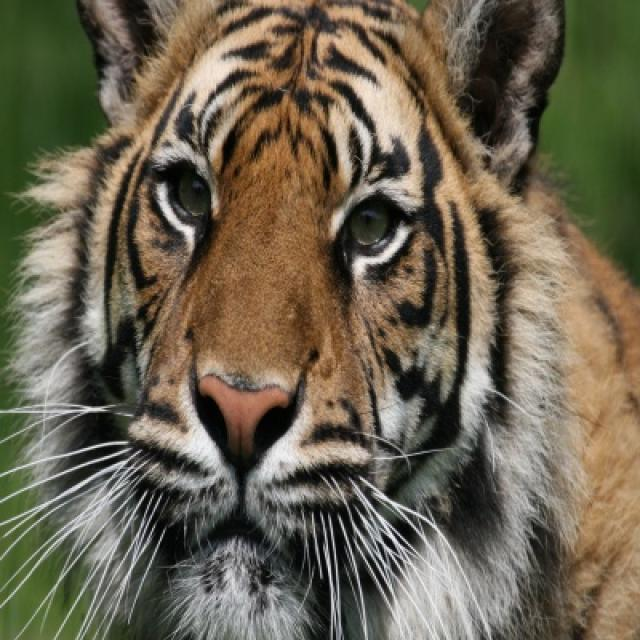Tiger: (21, 0, 638, 638)
